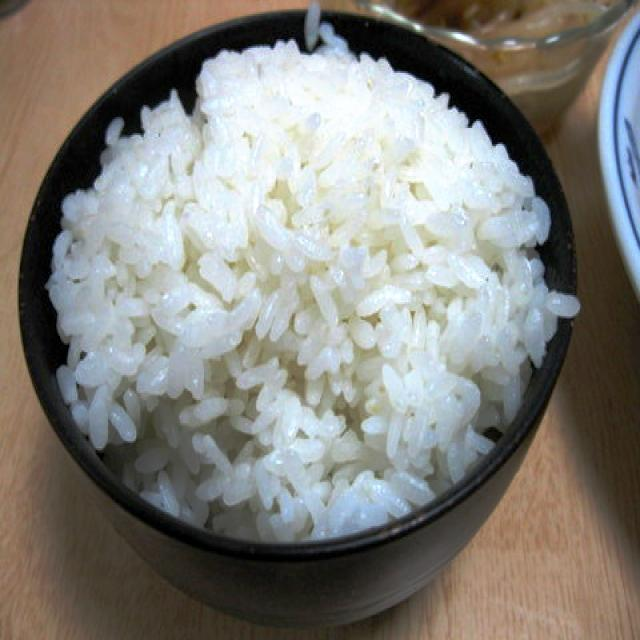rice: (47, 0, 581, 542)
